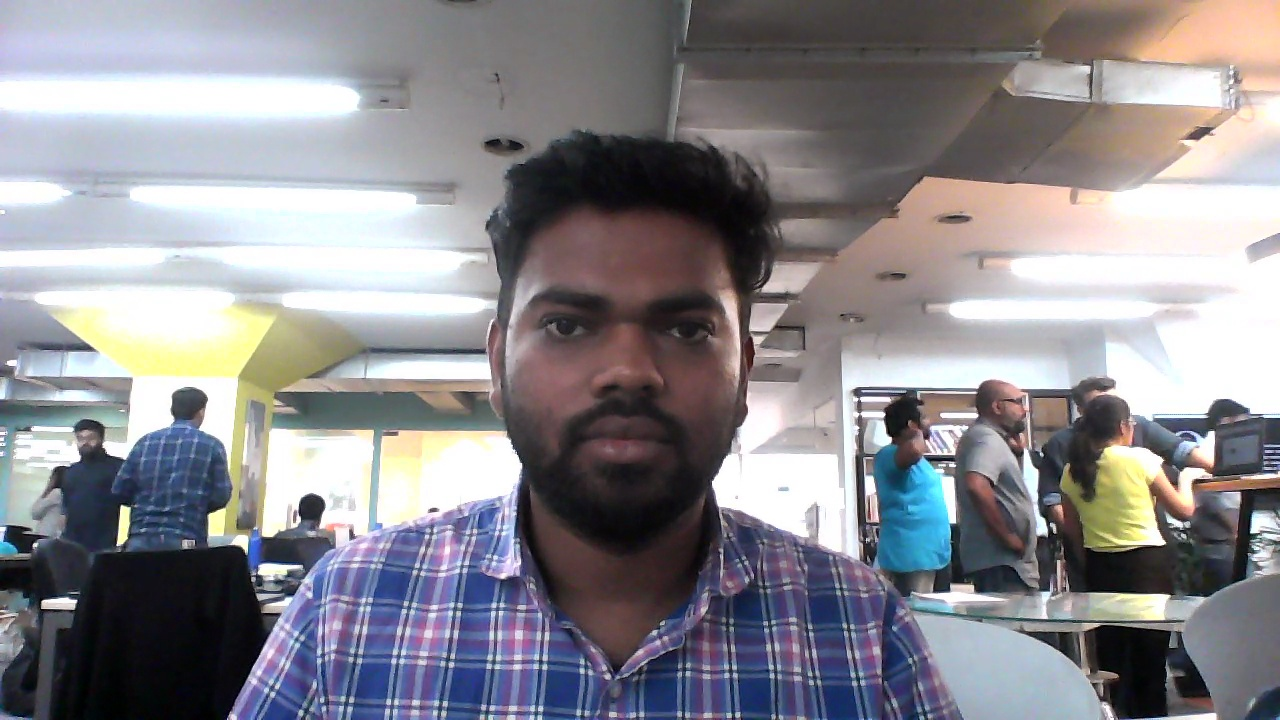open: (484, 126, 752, 530)
